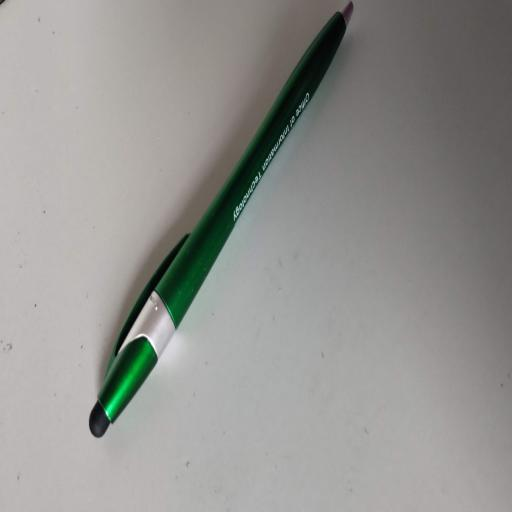pen: (90, 2, 353, 436)
